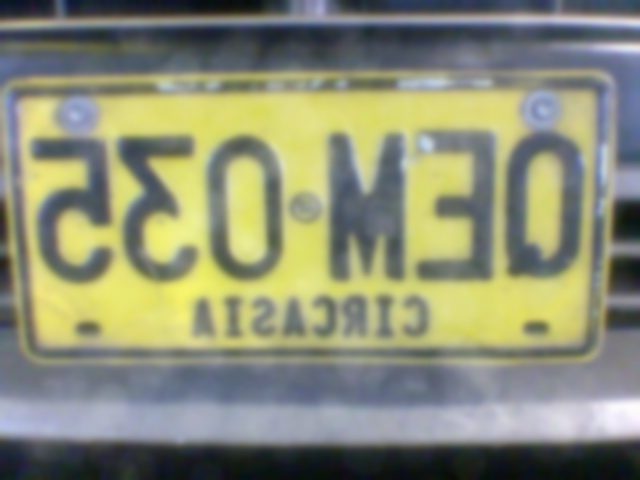placas: (2, 54, 623, 376)
